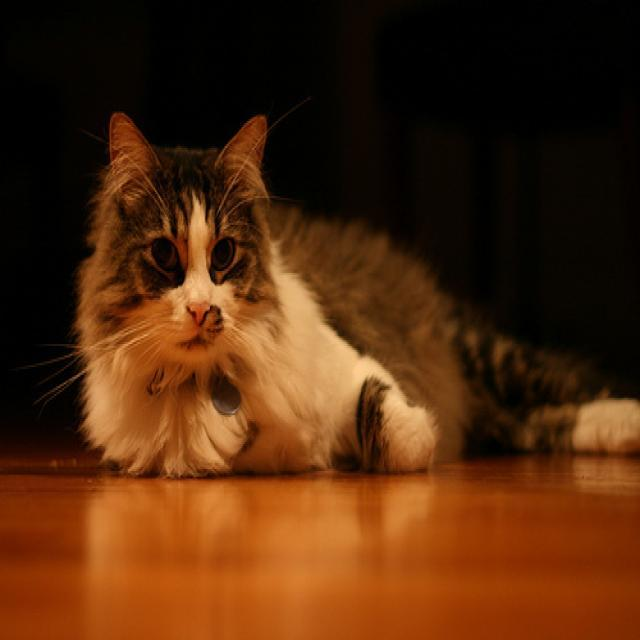Maine_Coon: (108, 110, 264, 360)
